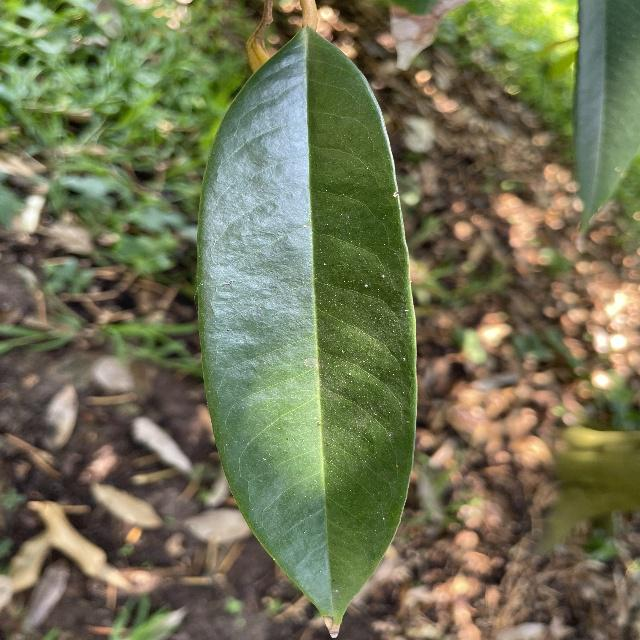No Disease: (191, 19, 424, 639)
